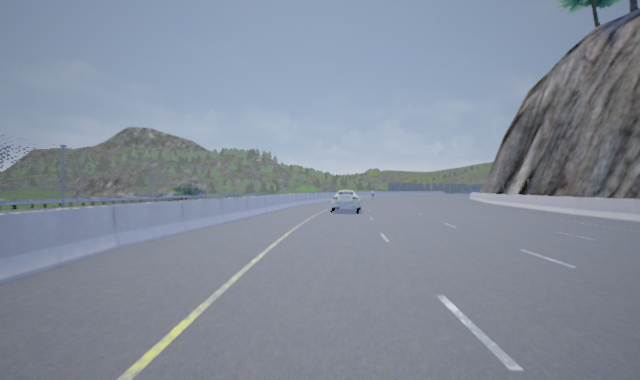vehicle: (330, 189, 361, 213)
